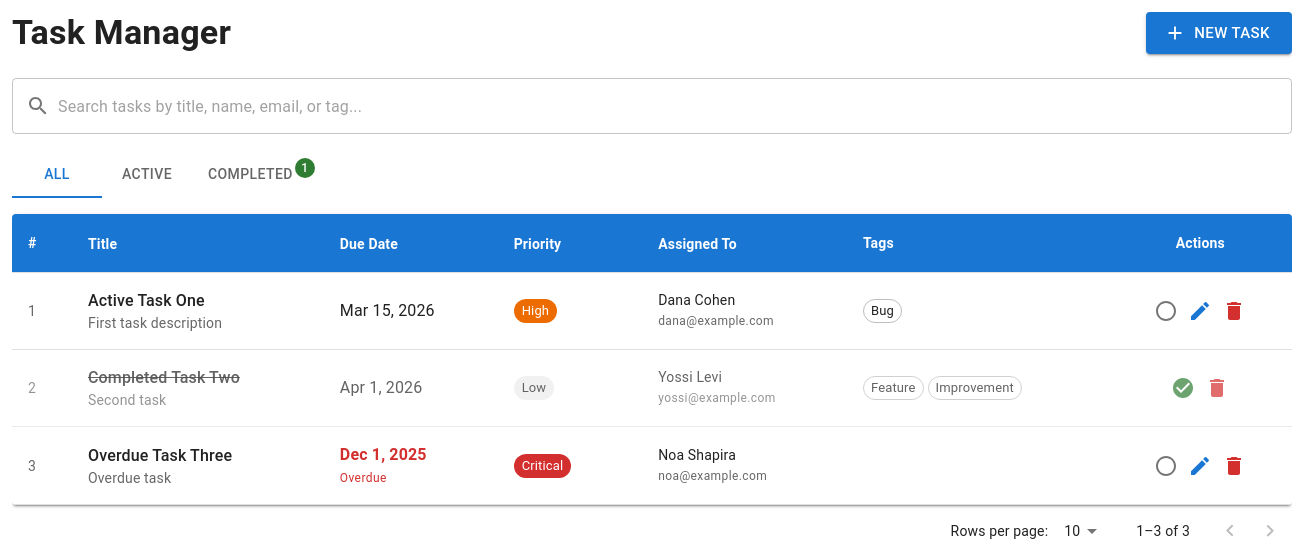
Test: TaskList › filters tasks by search query
Check: the text "Active Task One" is shown, box [88, 290, 205, 310]
Type "Dana" into the field with placeholder "Search tasks by title, name, email, or tag..." at (675, 106), box [58, 78, 1292, 134]
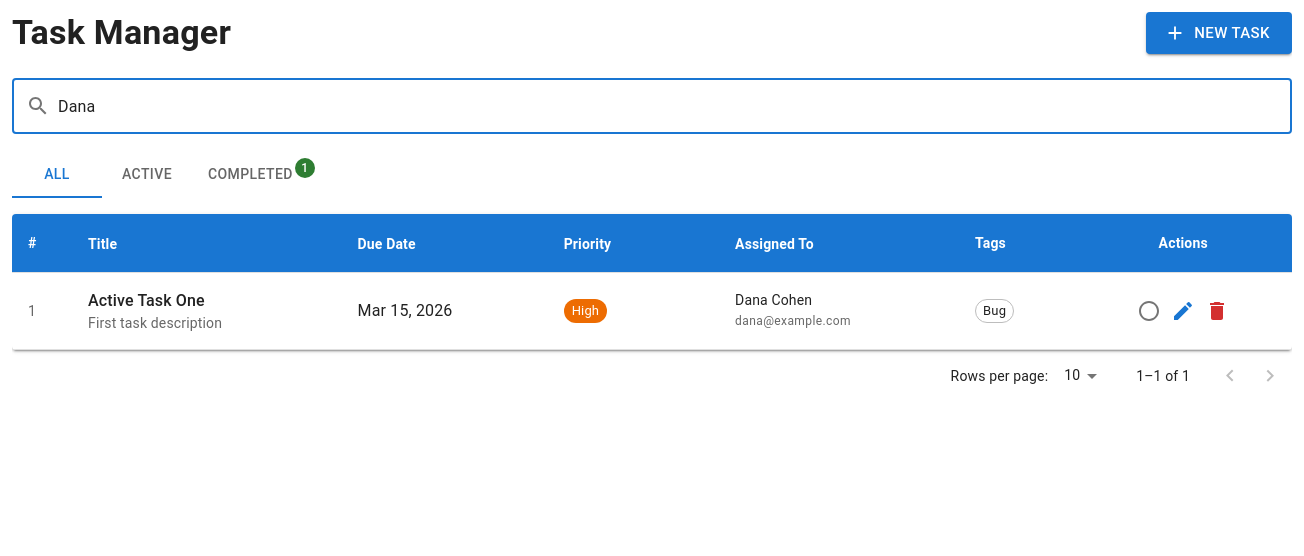
Check: the text "Active Task One" is shown, box [88, 290, 205, 310]
Check: the text "Completed Task Two" is gone
Check: the text "Overdue Task Three" is gone
